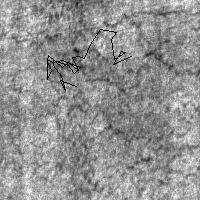crazing: (40, 12, 187, 152), (47, 29, 131, 90)
